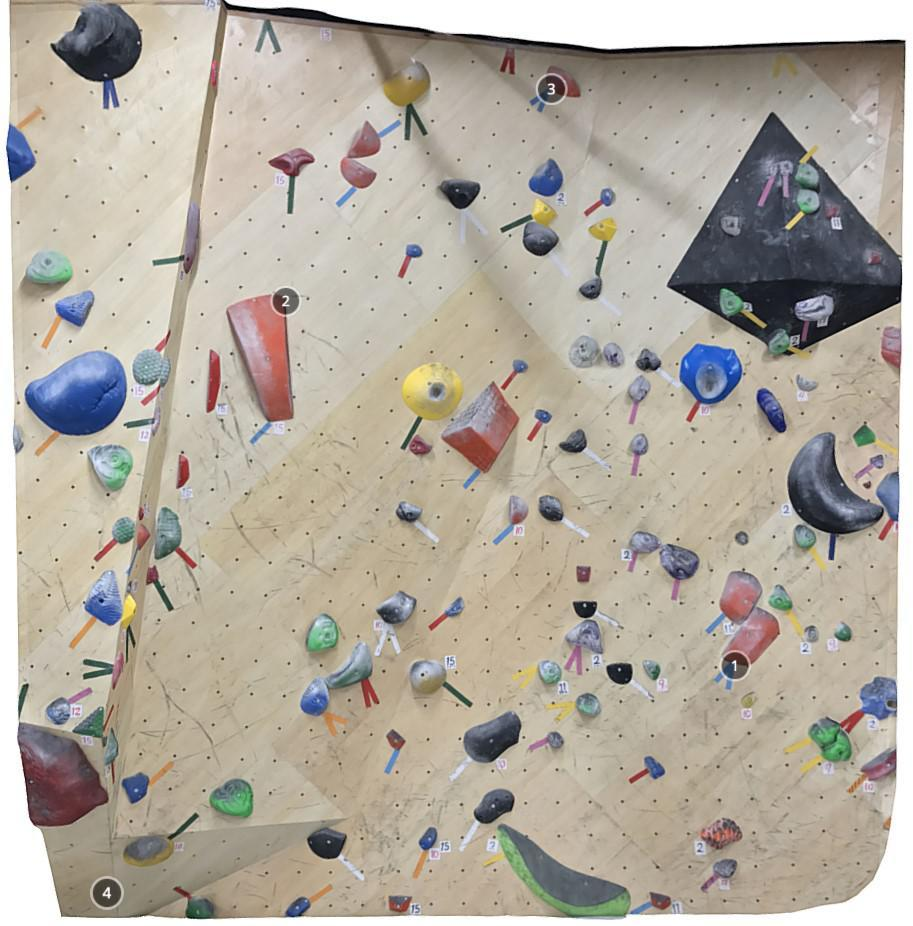hold: (497, 823, 631, 918), (787, 433, 884, 534), (17, 723, 109, 827), (225, 294, 295, 422), (25, 350, 127, 435), (51, 3, 142, 81), (442, 382, 519, 473), (679, 344, 743, 405), (402, 362, 463, 420), (721, 607, 780, 665), (462, 711, 522, 763), (323, 642, 374, 689), (719, 571, 762, 625), (87, 445, 134, 492), (84, 570, 123, 626), (382, 61, 431, 105), (209, 778, 253, 819), (6, 124, 36, 182), (859, 676, 897, 721), (122, 835, 174, 867), (26, 249, 73, 284), (699, 817, 743, 851), (473, 788, 515, 823), (55, 290, 94, 327), (154, 507, 181, 559), (376, 590, 416, 625), (659, 544, 699, 579), (756, 388, 787, 433), (268, 147, 316, 176), (860, 744, 897, 781), (565, 619, 604, 654), (528, 159, 563, 196), (347, 120, 381, 158), (305, 613, 339, 651), (409, 660, 447, 694), (183, 202, 201, 273), (307, 827, 347, 858), (875, 471, 899, 522), (522, 222, 559, 255), (439, 180, 480, 209), (340, 156, 377, 188), (300, 677, 330, 715), (546, 66, 582, 97), (569, 335, 601, 369), (132, 349, 163, 384), (794, 294, 834, 321), (807, 717, 841, 748), (72, 706, 104, 738), (820, 730, 852, 762), (206, 349, 221, 413), (121, 772, 149, 804), (881, 326, 900, 370), (45, 697, 72, 725), (531, 198, 558, 226), (719, 287, 745, 316), (627, 531, 661, 553), (794, 162, 820, 190), (587, 216, 617, 240), (766, 328, 791, 356), (185, 896, 215, 919), (538, 495, 564, 521), (768, 584, 793, 611), (559, 429, 587, 453), (111, 517, 136, 543), (796, 188, 820, 215), (508, 495, 529, 525), (628, 376, 651, 403), (606, 662, 633, 685), (120, 594, 138, 628), (538, 660, 562, 685), (635, 348, 661, 371), (575, 693, 601, 716), (579, 276, 603, 300), (793, 525, 817, 549), (285, 896, 312, 917), (104, 728, 119, 765), (718, 215, 742, 238), (603, 343, 625, 368), (395, 501, 422, 521), (175, 454, 190, 489), (111, 652, 125, 689), (644, 755, 665, 779), (852, 425, 876, 446), (713, 858, 737, 878), (418, 827, 437, 851), (409, 435, 432, 454), (388, 895, 413, 912), (386, 729, 406, 750), (834, 621, 853, 642), (630, 433, 648, 455), (649, 892, 671, 910), (796, 375, 819, 392), (573, 602, 597, 618), (445, 597, 465, 616), (643, 660, 661, 681), (159, 356, 171, 387), (824, 199, 842, 219), (137, 524, 150, 550), (12, 425, 24, 453), (546, 731, 565, 748), (151, 405, 161, 437), (740, 691, 758, 708), (865, 249, 883, 266), (804, 625, 819, 644), (534, 409, 552, 424), (599, 188, 613, 207), (576, 566, 591, 583), (146, 565, 158, 585), (869, 454, 885, 469), (405, 244, 423, 257), (779, 160, 794, 175), (513, 360, 529, 373), (735, 531, 749, 545), (769, 162, 780, 177), (211, 60, 217, 87), (138, 506, 144, 521), (126, 581, 132, 593), (102, 736, 108, 748)
volume: (665, 109, 902, 358)
